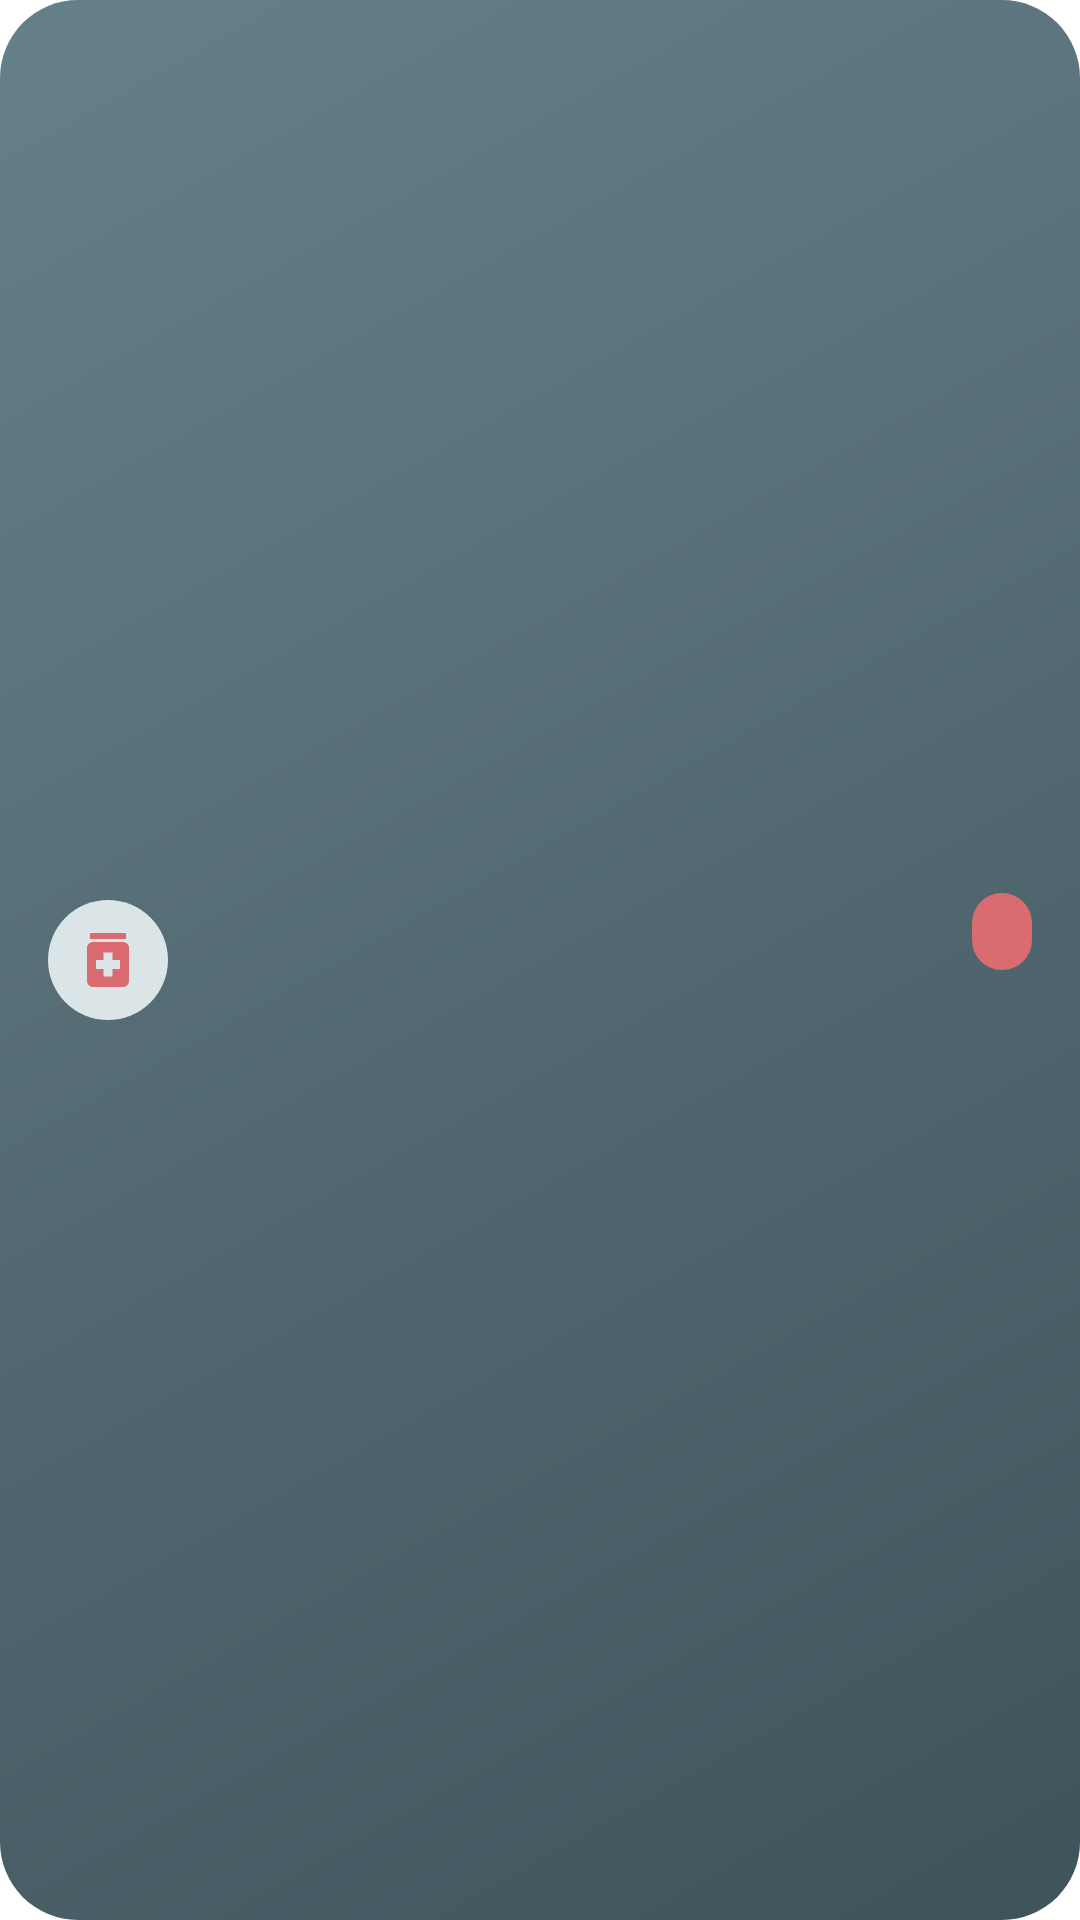

Named icons in this screenshot (1080 × 1920) and their bounding boxes, box(x1, y1, x2, y2):
widget medication: box(48, 900, 168, 1020)
